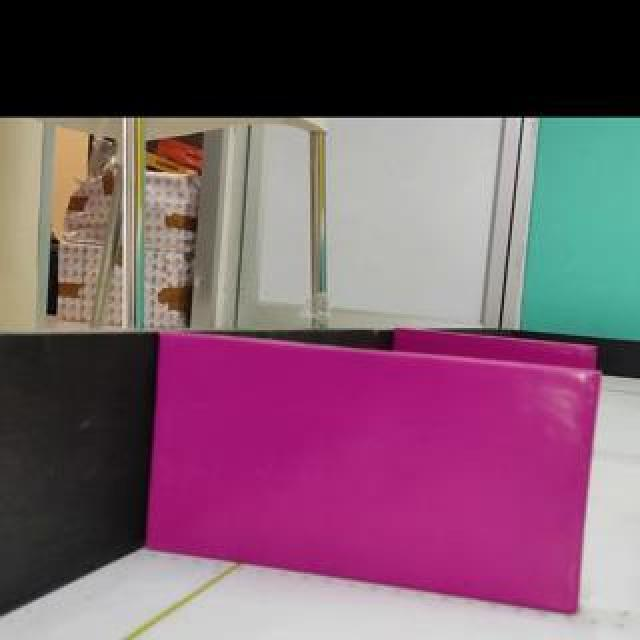xparking: (147, 334, 599, 613), (396, 330, 595, 367)
